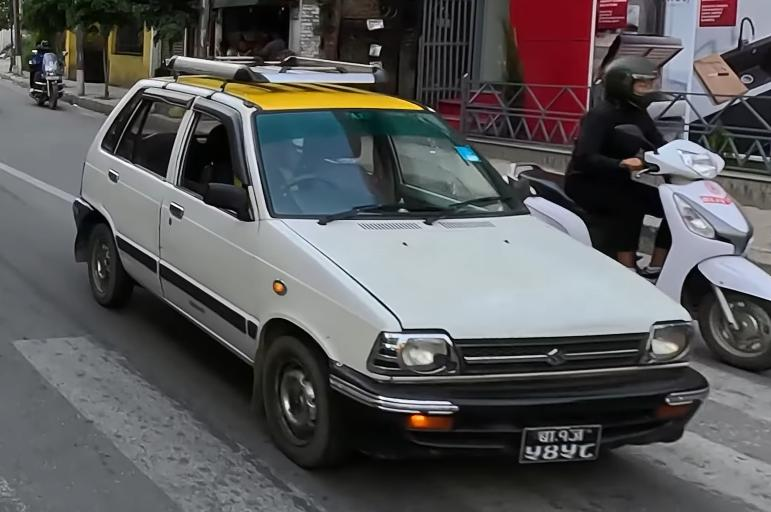bike: (24, 48, 71, 112)
scooter: (494, 120, 771, 375)
taxi: (65, 46, 715, 478)
